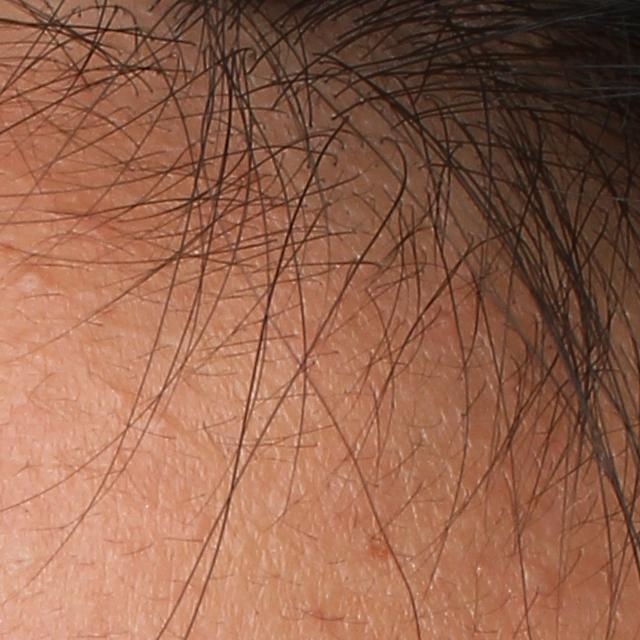comedo: (514, 558, 552, 597), (12, 266, 53, 301), (110, 387, 132, 409)
